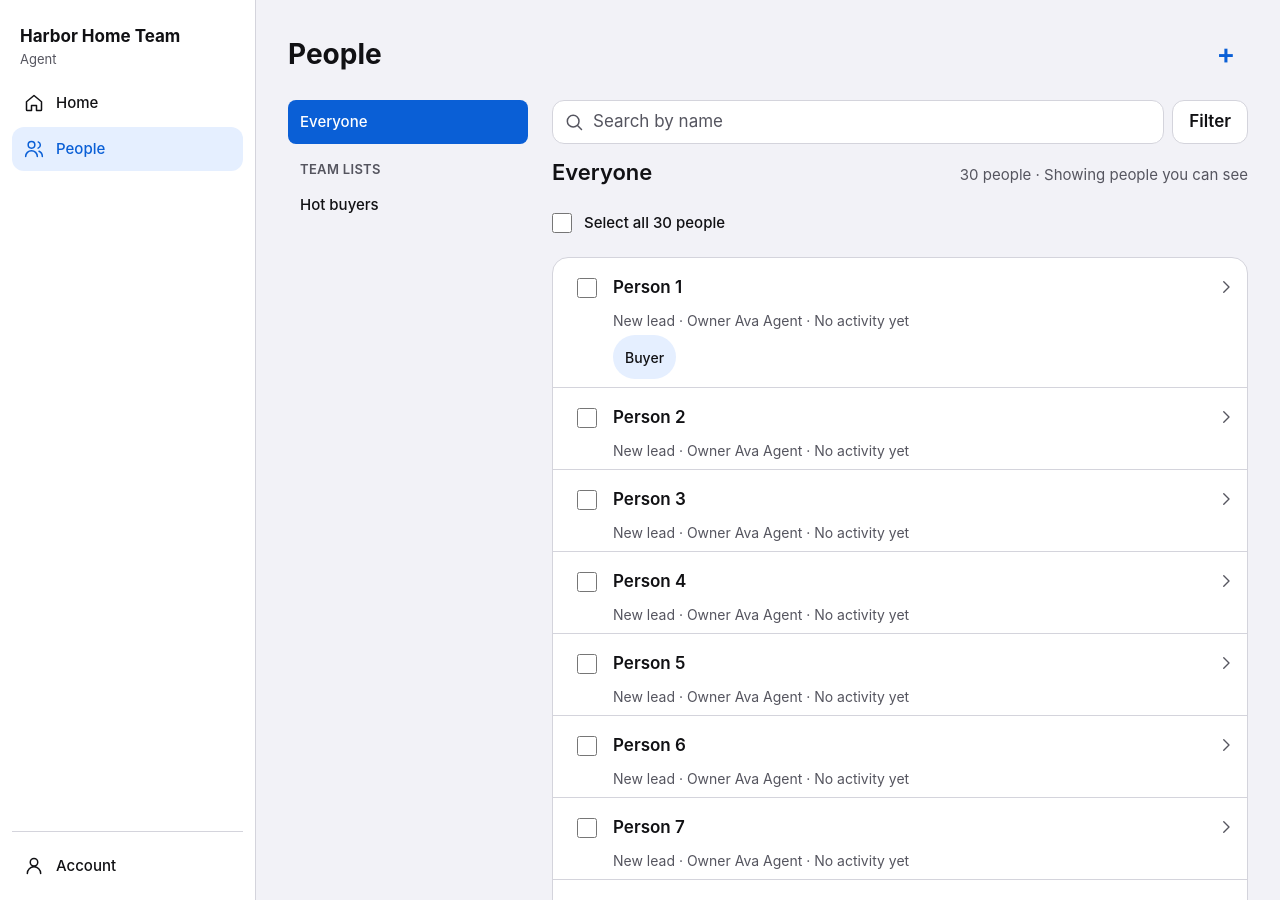
Test: People page (module 61) › R-PAR-29: a list too slow to resolve for the draft says so in the sheet (LIST_TOO_SLOW), and nothing starts
Click the checkbox labelled "Select all 30 people" at (562, 223), box [552,213,572,233]
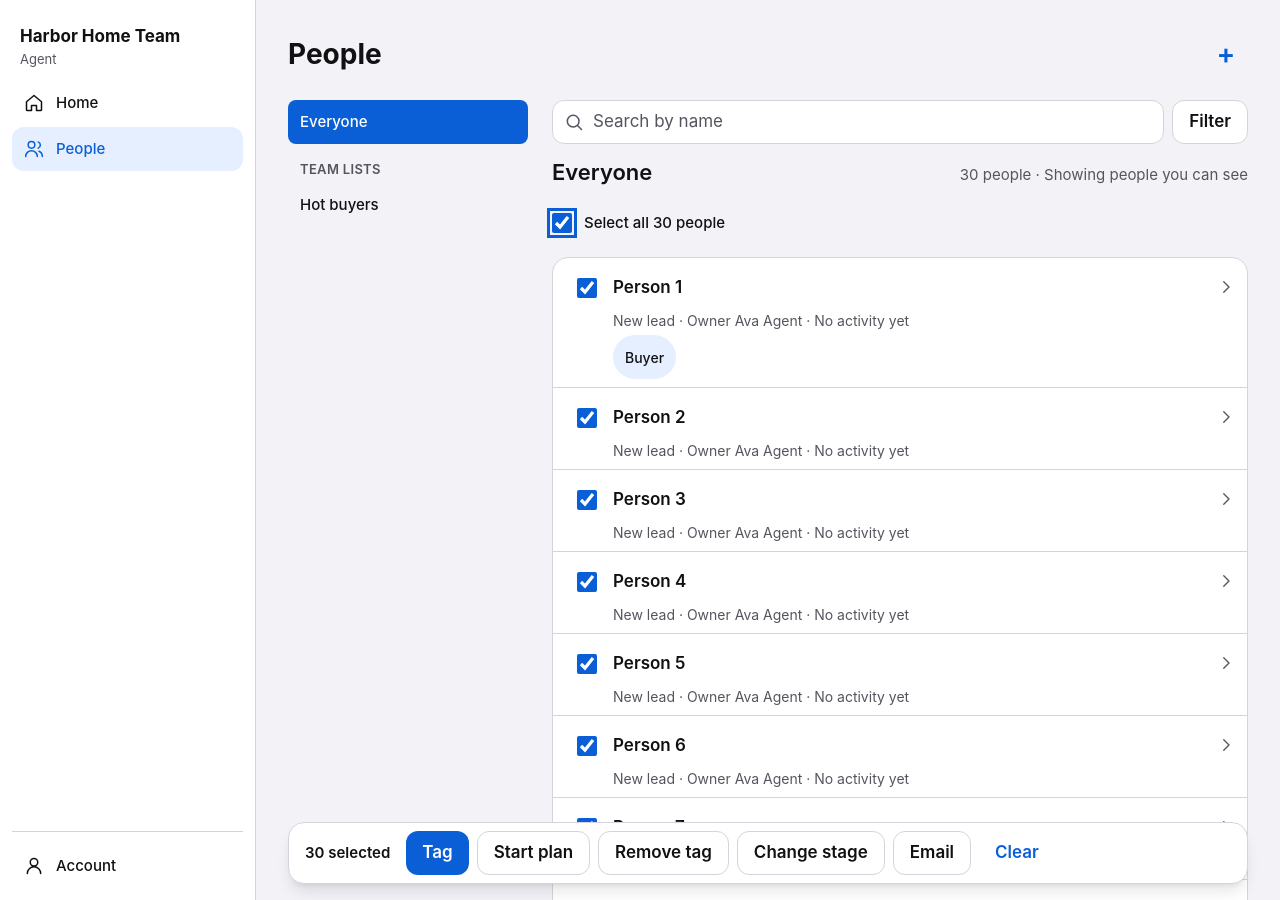
Click the button "Tag" at (438, 853), box [406,831,469,875]
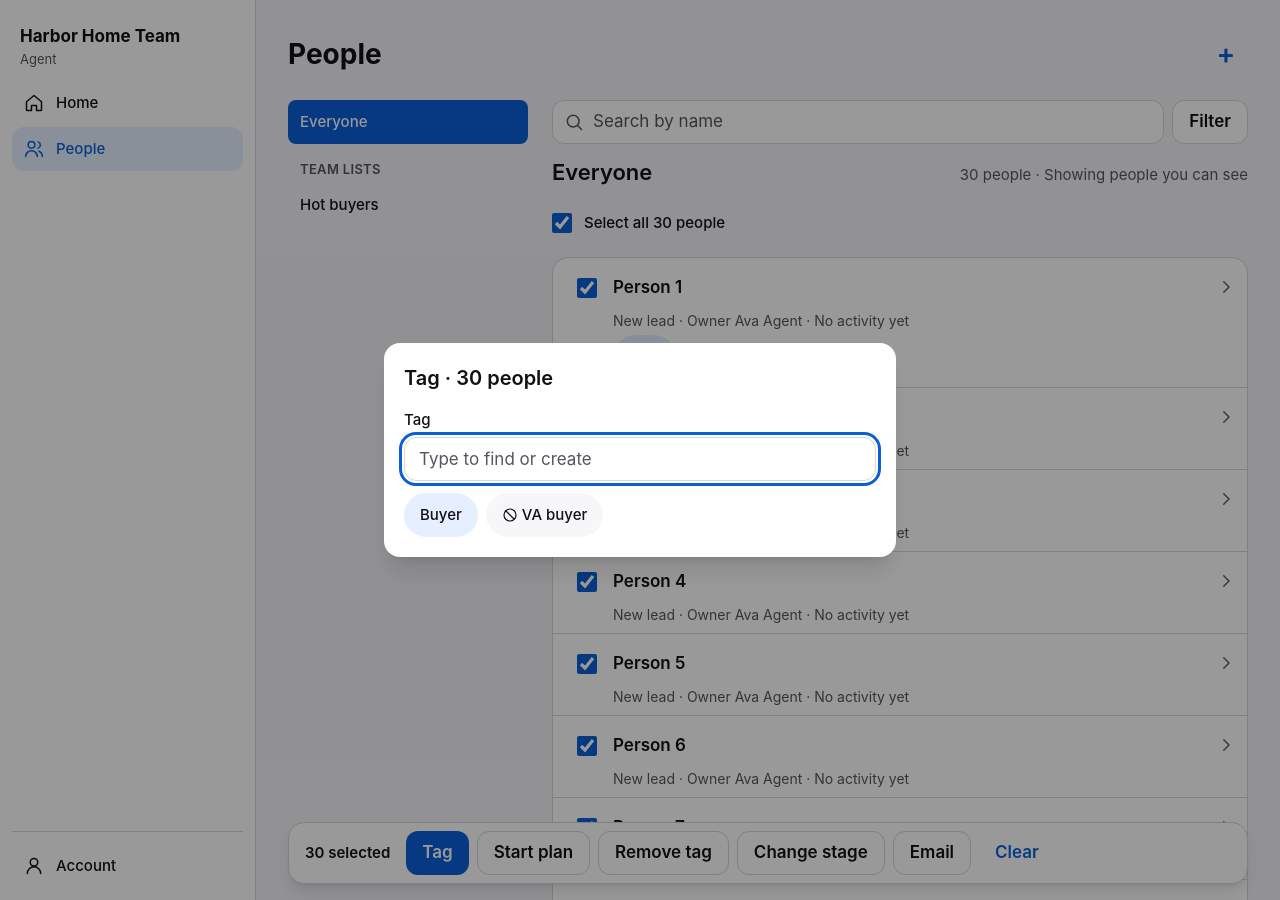
Click the button "Buyer" at (441, 515), box [404,493,478,537]
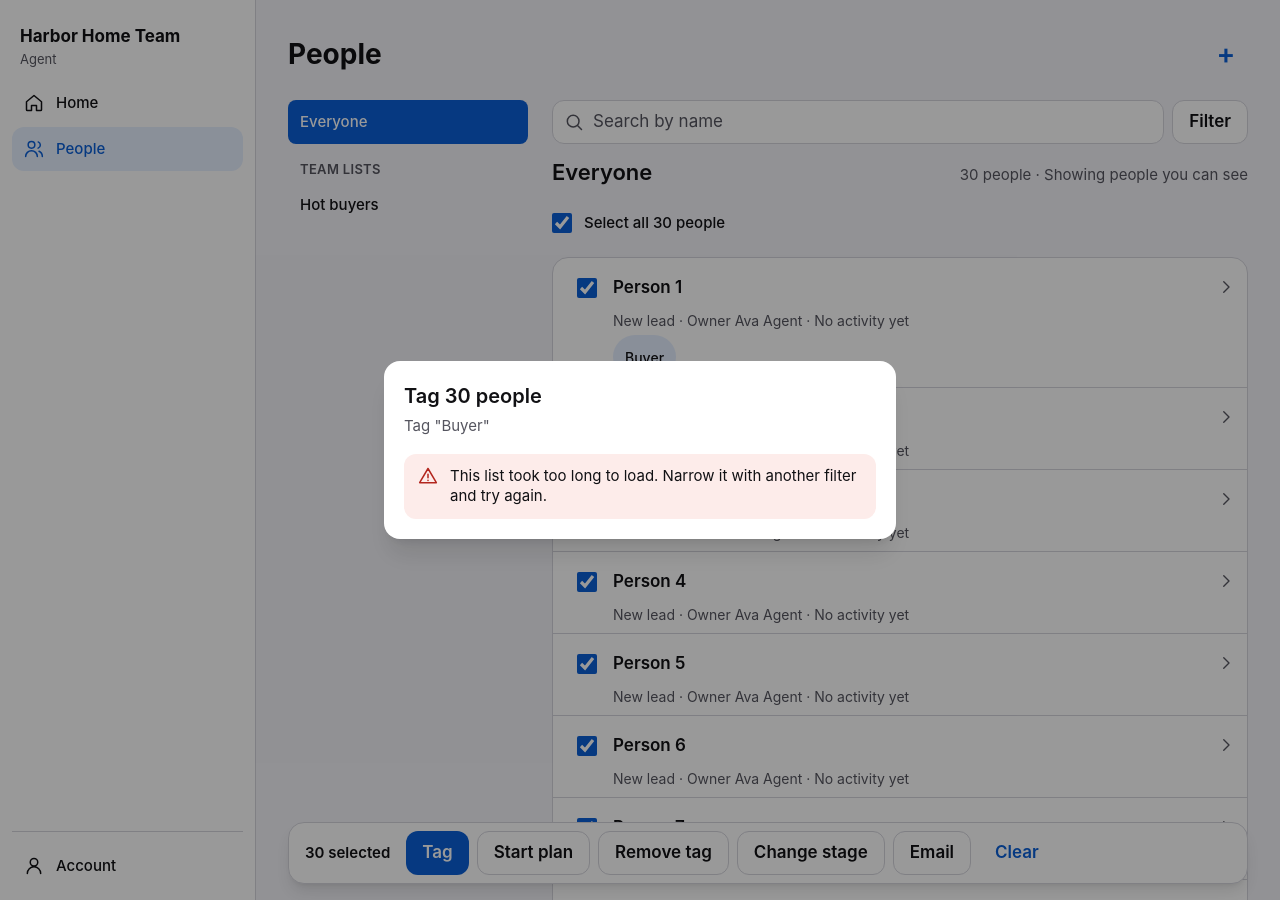
Expected: the text "This list took too long to load. Narrow it with another filter and try again." is shown, [450,466,862,507]
